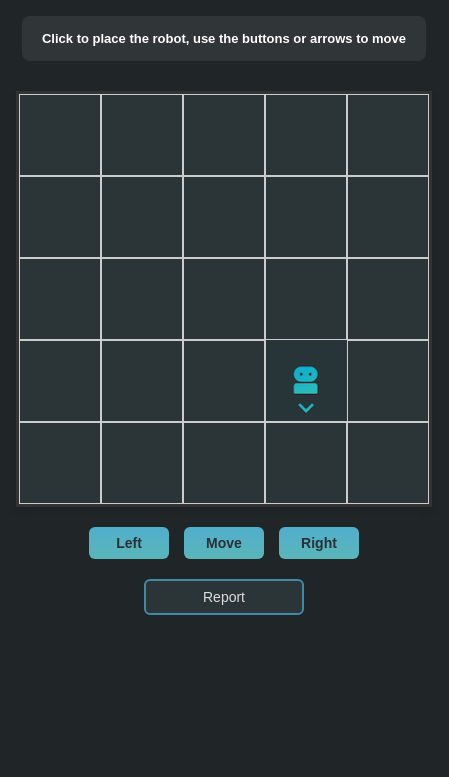
Test: RobotGrid Integration › should display report when Report button is clicked
The width and height of the screenshot is (449, 777).
// Click Report button
Click the button "Report" at x=224, y=597, box [144, 579, 304, 615]
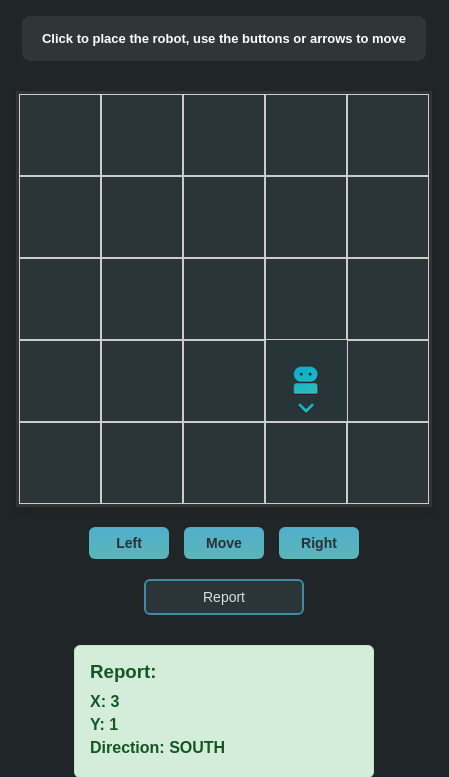
Expected: the heading "Report:" is shown, [90, 661, 156, 682]
Expected: the text "X: 3" is shown, [90, 693, 119, 710]
Expected: the text "Y: 1" is shown, [90, 716, 118, 733]
